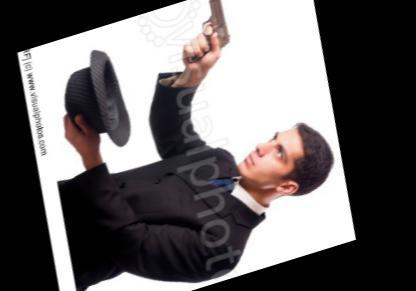pistol: (170, 0, 244, 64)
